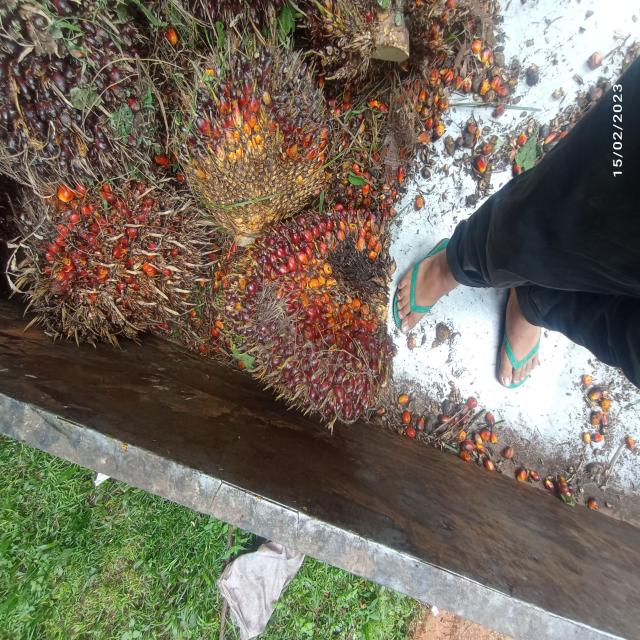fraksi 00: (157, 7, 339, 235), (4, 3, 168, 197)
fraksi 1: (200, 177, 390, 437)
fraksi 4: (19, 152, 200, 359)
